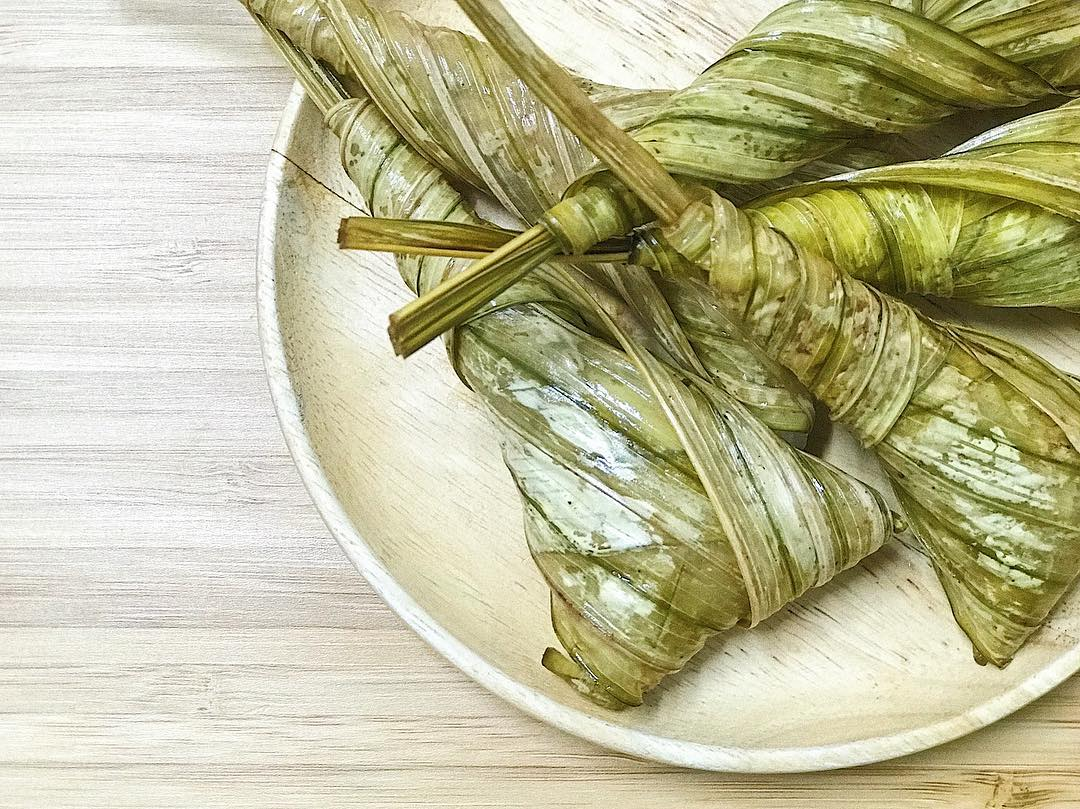kanomtom: (330, 82, 922, 727), (664, 168, 1080, 691)
